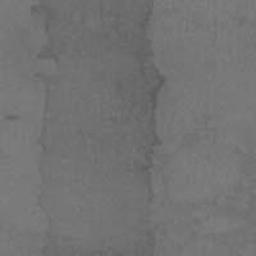Water spot: (26, 0, 165, 256), (4, 114, 19, 120)
